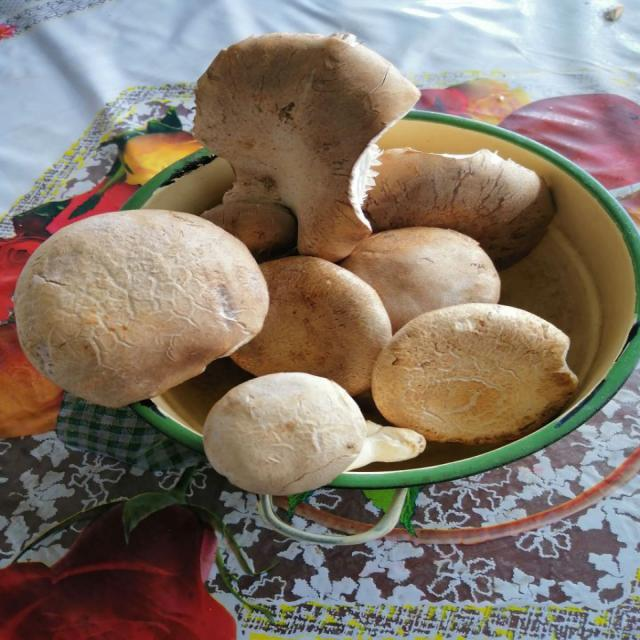Pleurotus cystidiosus: (189, 32, 420, 253), (18, 208, 271, 409), (368, 304, 580, 445), (200, 371, 428, 494), (214, 257, 390, 391), (360, 148, 554, 265), (340, 227, 497, 324)
